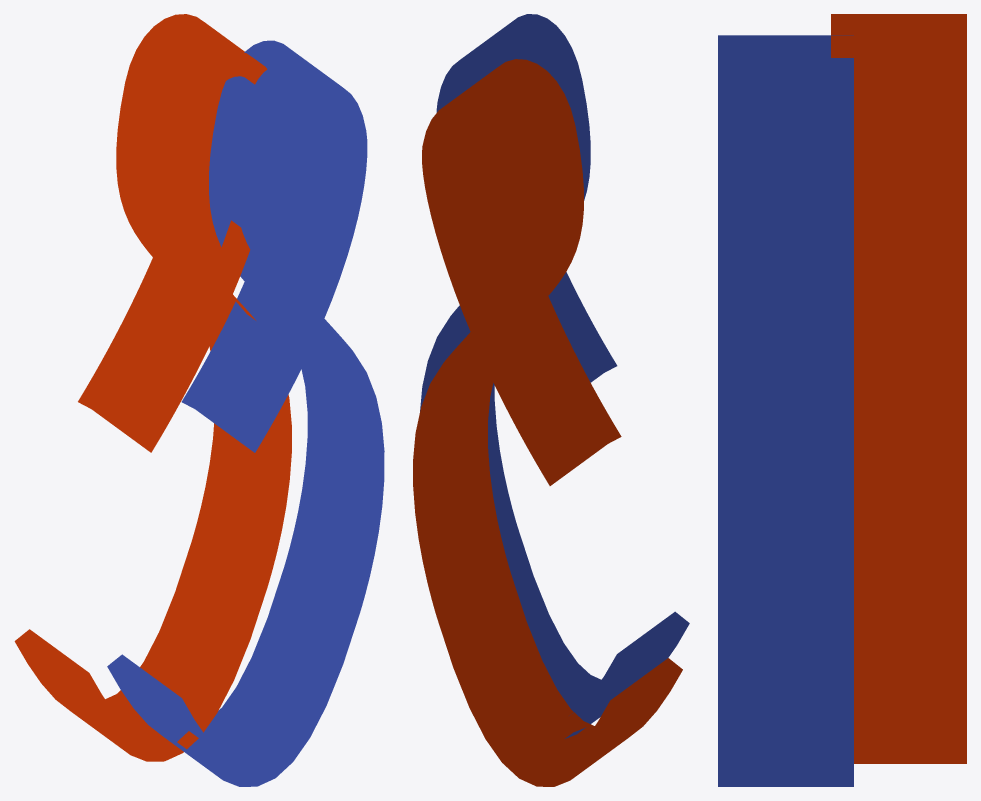
Rendered from jane.gltf.
3 renders of one model, left to right at view 1: azimuth 30°, elevation 25°; view 2: azimuth 150°, elevation 25°; view 3: azimuth 270°, elevation 25°, orthographic. The views are drawn at different scales.
Bounding box in the file's own units: 3.65 × 9.2 × 2.66.
